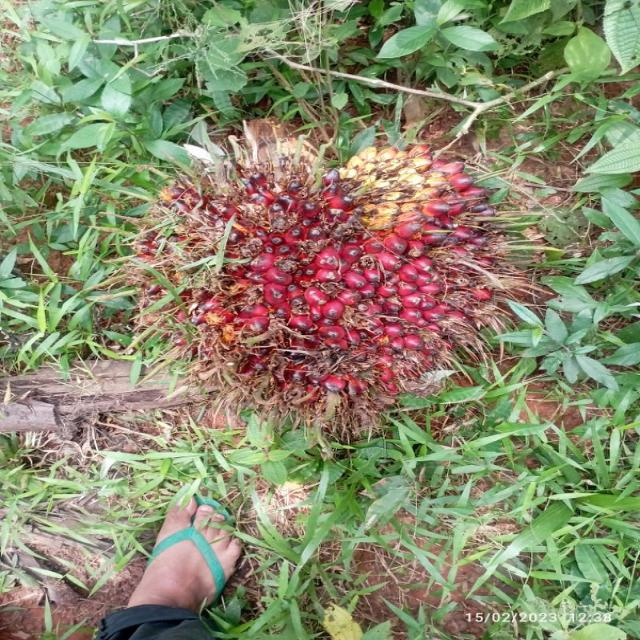fraksi 3: (39, 65, 564, 462)
